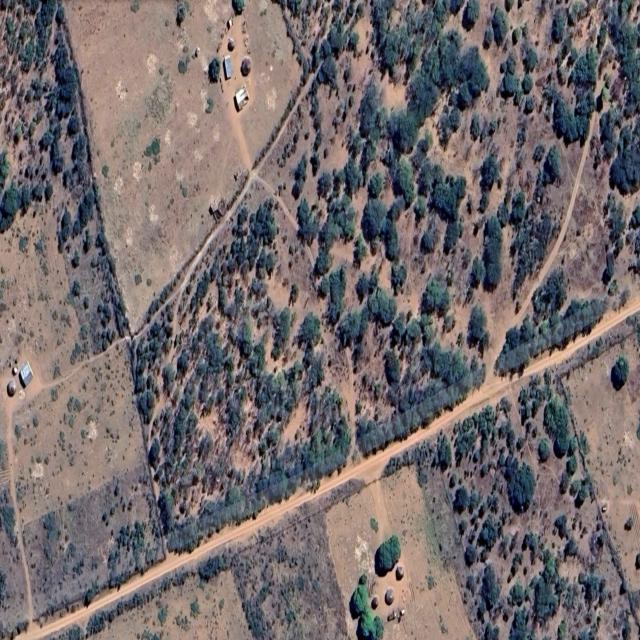boundaries: (6, 298, 636, 640), (107, 349, 492, 604), (152, 69, 318, 316), (517, 136, 595, 326)
